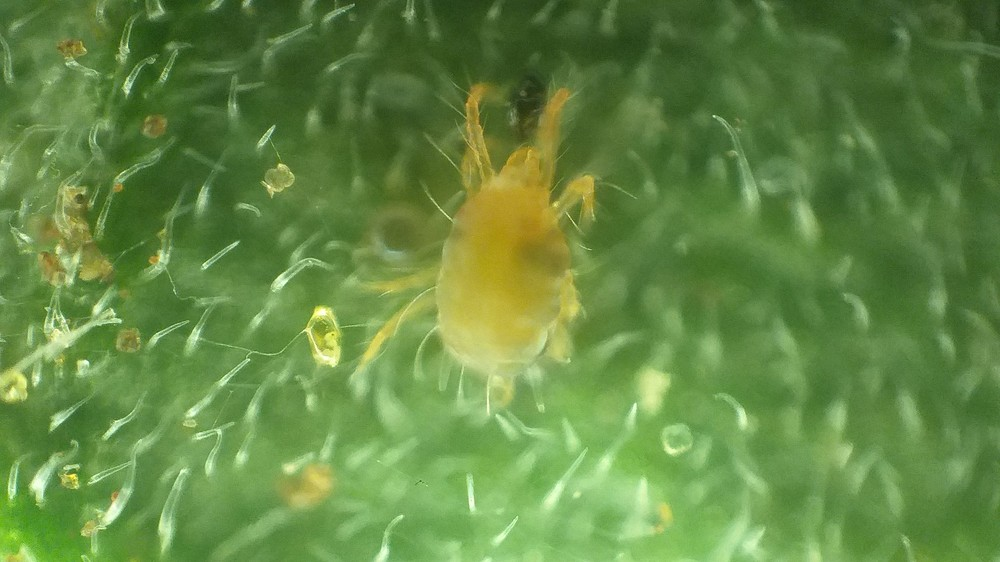Aracnido Rojo: (373, 60, 650, 435)
